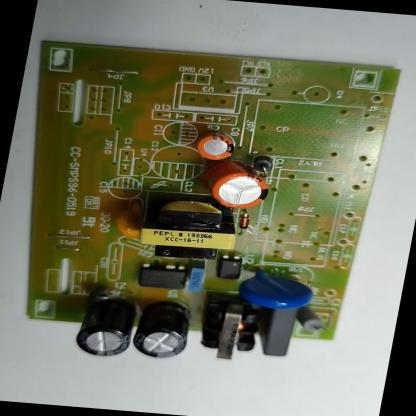Cap1: (200, 156, 274, 211)
Cap2: (193, 132, 237, 161)
Cap3: (130, 299, 194, 360)
Cap4: (73, 296, 136, 361)
MOSFET: (132, 262, 191, 292)
Mov: (233, 263, 319, 312)
Resistor: (295, 309, 329, 334)
Transformer: (131, 194, 245, 263), (194, 290, 264, 363)
